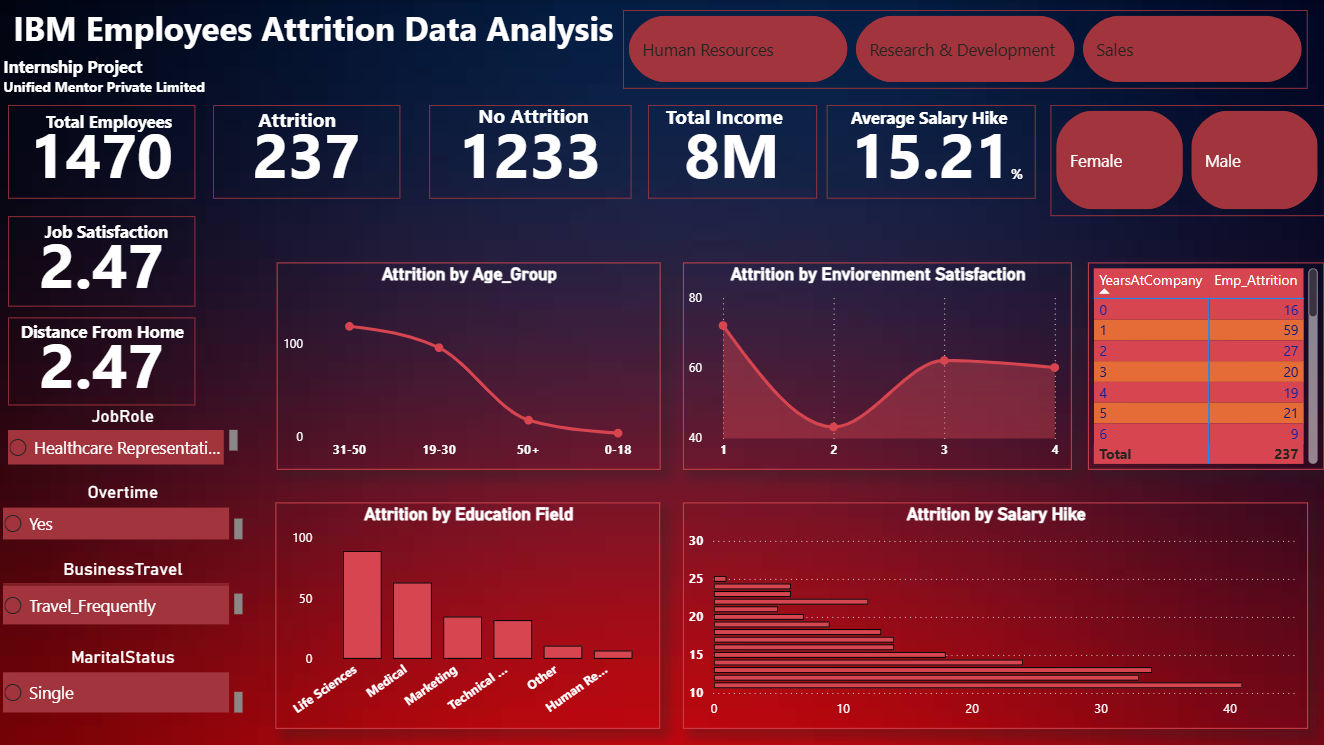

The page's visual inventory and layout, read from the dashboard file:
{"tool":"powerbi","page":{"name":"Page 1","canvas":[1280,720],"ordinal":0},"visuals":[{"type":"textbox","box":[9.7,0,617.7,62.7],"z":0},{"type":"textbox","box":[0,48.3,220.8,53.1],"z":1000},{"type":"card","fields":{"Values":["Count(WA_Fn-UseC_-HR-Employee-Attrition.EmployeeNumber)"]},"box":[9.7,101.3,211.1,106.2],"z":2000},{"type":"textbox","box":[41,101.3,149.6,43.4],"z":3000},{"type":"card","fields":{"Values":["CountNonNull(WA_Fn-UseC_-HR-Employee-Attrition.Attrition)"]},"box":[251.1,101.5,211.3,105.7],"z":4000},{"type":"card","fields":{"Values":["CountNonNull(WA_Fn-UseC_-HR-Employee-Attrition.Attrition)"]},"box":[495.4,101.5,211.3,105.7],"z":5000},{"type":"textbox","box":[307.4,101.5,129,64.5],"z":6000},{"type":"textbox","box":[547.5,97.4,127.6,48],"z":7000},{"type":"card","fields":{"Values":["Sum(WA_Fn-UseC_-HR-Employee-Attrition.MonthlyIncome)"]},"box":[738.3,102.9,211.3,105.7],"z":8000},{"type":"textbox","box":[790.4,98.8,129,49.4],"z":9000},{"type":"advancedSlicerVisual","fields":{"Values":["WA_Fn-UseC_-HR-Employee-Attrition.Department"]},"box":[612,11,668.3,75.5],"z":10000},{"type":"advancedSlicerVisual","fields":{"Values":["WA_Fn-UseC_-HR-Employee-Attrition.Department"]},"box":[611.7,11,668.3,75.5],"z":11000},{"type":"advancedSlicerVisual","fields":{"Values":["WA_Fn-UseC_-HR-Employee-Attrition.Gender"]},"box":[968.8,101.5,311.5,107],"z":12000},{"type":"listSlicer","fields":{"Values":["WA_Fn-UseC_-HR-Employee-Attrition.JobRole"]},"box":[9.6,253.9,231.9,61.7],"z":13000},{"type":"listSlicer","title":"Overtime","fields":{"Values":["WA_Fn-UseC_-HR-Employee-Attrition.OverTime"]},"box":[9.6,359.5,231.9,60.4],"z":14000},{"type":"listSlicer","fields":{"Values":["WA_Fn-UseC_-HR-Employee-Attrition.MaritalStatus"]},"box":[0,592.8,241.5,68.6],"z":15000},{"type":"listSlicer","fields":{"Values":["WA_Fn-UseC_-HR-Employee-Attrition.BusinessTravel"]},"box":[0,469.3,241.5,67.2],"z":16000},{"type":"lineChart","title":"Attrition by Age_Group","fields":{"Category":["WA_Fn-UseC_-HR-Employee-Attrition.Age_Group"],"Y":["CountNonNull(WA_Fn-UseC_-HR-Employee-Attrition.Attrition)"]},"box":[269,253.4,370.4,200.3],"z":16001},{"type":"columnChart","title":"Attrition by Education Field","fields":{"Y":["CountNonNull(WA_Fn-UseC_-HR-Employee-Attrition.Attrition)"],"Category":["WA_Fn-UseC_-HR-Employee-Attrition.EducationField"]},"box":[267.8,485,371.6,218.4],"z":16002},{"type":"stackedAreaChart","title":"Attrition by Enviorenment Satisfaction","fields":{"Category":["WA_Fn-UseC_-HR-Employee-Attrition.EnvironmentSatisfaction"],"Y":["CountNonNull(WA_Fn-UseC_-HR-Employee-Attrition.Attrition)"]},"box":[661.1,253.4,375.2,200.3],"z":16003},{"type":"barChart","title":"Attrition by Salary Hike","fields":{"Y":["CountNonNull(WA_Fn-UseC_-HR-Employee-Attrition.Attrition)"],"Category":["WA_Fn-UseC_-HR-Employee-Attrition.PercentSalaryHike"]},"box":[661.1,485,603.2,218.4],"z":16004},{"type":"pivotTable","title":"Attrition by Enviorenment Satisfaction","fields":{"Values":["CountNonNull(WA_Fn-UseC_-HR-Employee-Attrition.Attrition)"],"Rows":["WA_Fn-UseC_-HR-Employee-Attrition.YearsAtCompany"]},"box":[1052,253.4,228,200.3],"z":16005}]}

Visuals, with their boxes in screenshot pixels (x1, y1, x2, y2), scaled from the page's 1280x720 canvas onto the 1324x745 screenshot:
textbox: (left=10, top=0, right=649, bottom=65)
textbox: (left=0, top=50, right=228, bottom=105)
card - Count(WA_Fn-UseC_-HR-Employee-Attrition.EmployeeNumber): (left=10, top=105, right=228, bottom=215)
textbox: (left=42, top=105, right=197, bottom=150)
card - CountNonNull(WA_Fn-UseC_-HR-Employee-Attrition.Attrition): (left=260, top=105, right=478, bottom=214)
card - CountNonNull(WA_Fn-UseC_-HR-Employee-Attrition.Attrition): (left=512, top=105, right=731, bottom=214)
textbox: (left=318, top=105, right=451, bottom=172)
textbox: (left=566, top=101, right=698, bottom=150)
card - Sum(WA_Fn-UseC_-HR-Employee-Attrition.MonthlyIncome): (left=764, top=106, right=982, bottom=216)
textbox: (left=818, top=102, right=951, bottom=153)
advancedSlicerVisual - WA_Fn-UseC_-HR-Employee-Attrition.Department: (left=633, top=11, right=1323, bottom=90)
advancedSlicerVisual - WA_Fn-UseC_-HR-Employee-Attrition.Department: (left=633, top=11, right=1323, bottom=90)
advancedSlicerVisual - WA_Fn-UseC_-HR-Employee-Attrition.Gender: (left=1002, top=105, right=1323, bottom=216)
listSlicer - WA_Fn-UseC_-HR-Employee-Attrition.JobRole: (left=10, top=263, right=250, bottom=327)
"Overtime" listSlicer: (left=10, top=372, right=250, bottom=434)
listSlicer - WA_Fn-UseC_-HR-Employee-Attrition.MaritalStatus: (left=0, top=613, right=250, bottom=684)
listSlicer - WA_Fn-UseC_-HR-Employee-Attrition.BusinessTravel: (left=0, top=486, right=250, bottom=555)
"Attrition by Age_Group" lineChart: (left=278, top=262, right=661, bottom=469)
"Attrition by Education Field" columnChart: (left=277, top=502, right=661, bottom=728)
"Attrition by Enviorenment Satisfaction" stackedAreaChart: (left=684, top=262, right=1072, bottom=469)
"Attrition by Salary Hike" barChart: (left=684, top=502, right=1308, bottom=728)
"Attrition by Enviorenment Satisfaction" pivotTable: (left=1088, top=262, right=1323, bottom=469)
